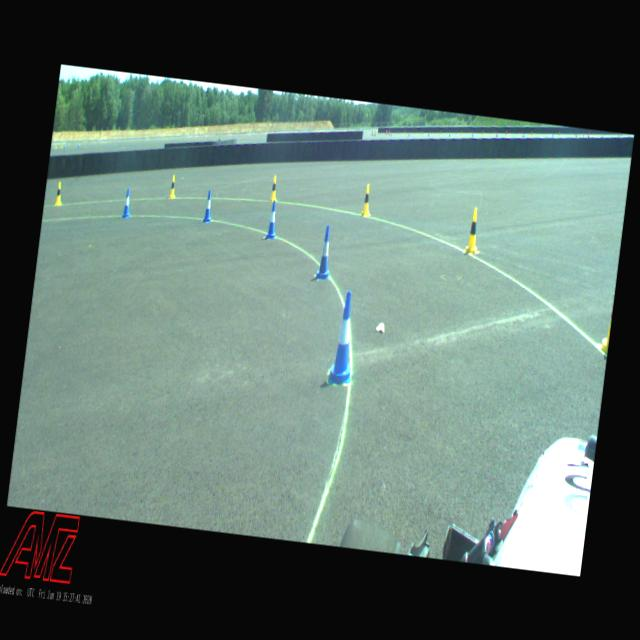blue_cone: (328, 290, 359, 382), (314, 223, 334, 281), (265, 200, 279, 240), (202, 190, 214, 222), (122, 188, 132, 217)
yellow_cone: (465, 207, 481, 253), (361, 184, 373, 216), (54, 180, 64, 205), (270, 175, 278, 202), (168, 175, 176, 198)
